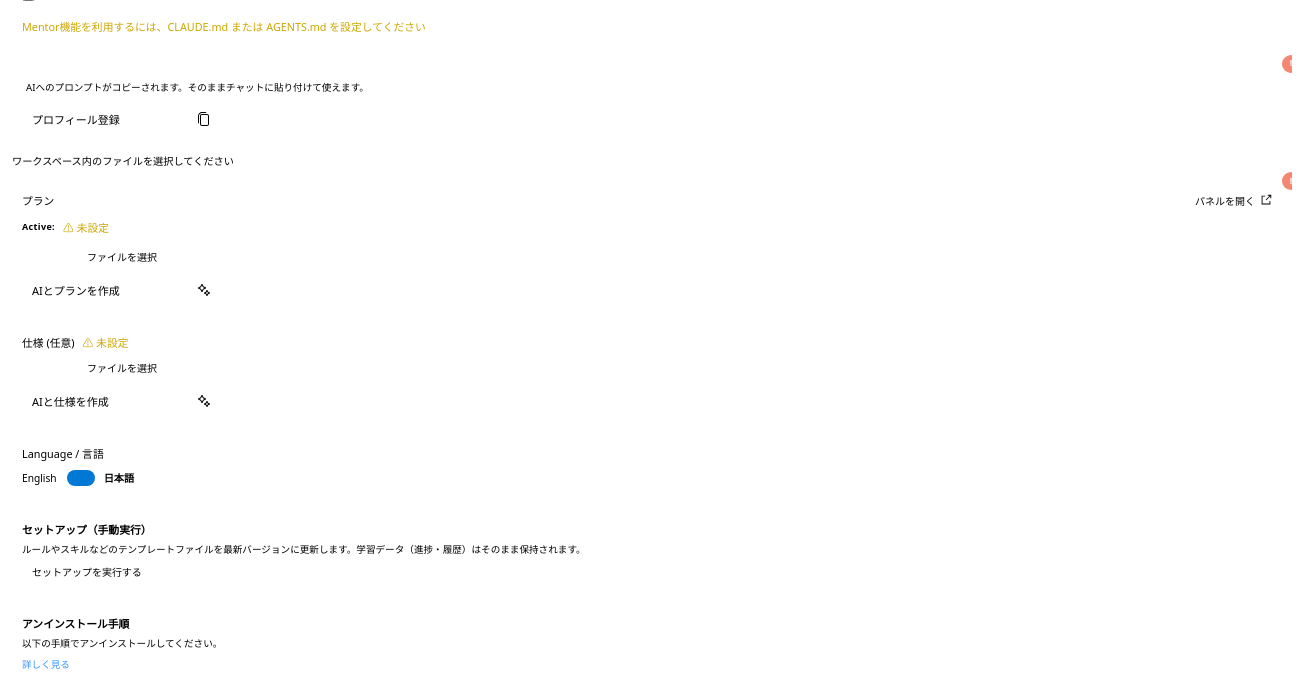
Scenario: Settings › disables cleanup button when nothing is selected
(page scrolled)
Click the button "詳しく見る" at (46, 664), box [22,657,70,671]
(page scrolled)
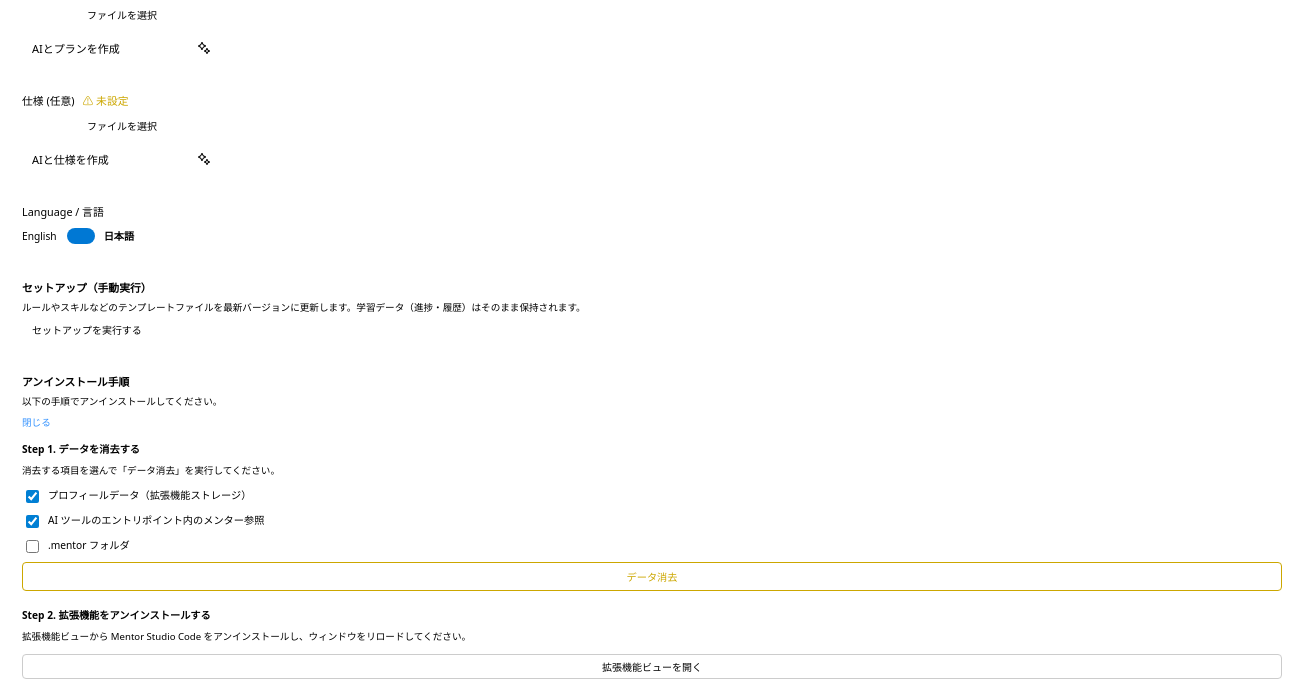
Note: Uncheck the two defaults (profile, entrypointFiles)
Click the checkbox labelled "プロフィールデータ（拡張機能ストレージ）" at (32, 497), box [26,490,39,503]
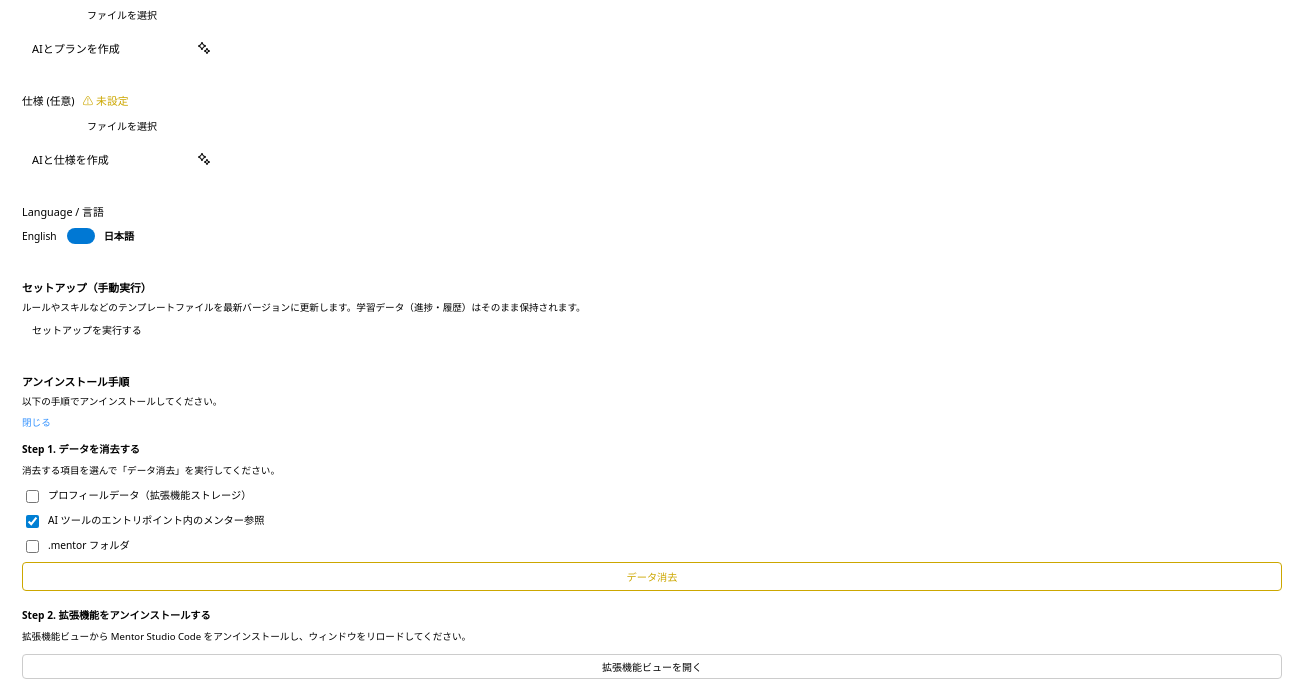
Click the checkbox labelled "AI ツールのエントリポイント内のメンター参照" at (32, 522), box [26,515,39,528]
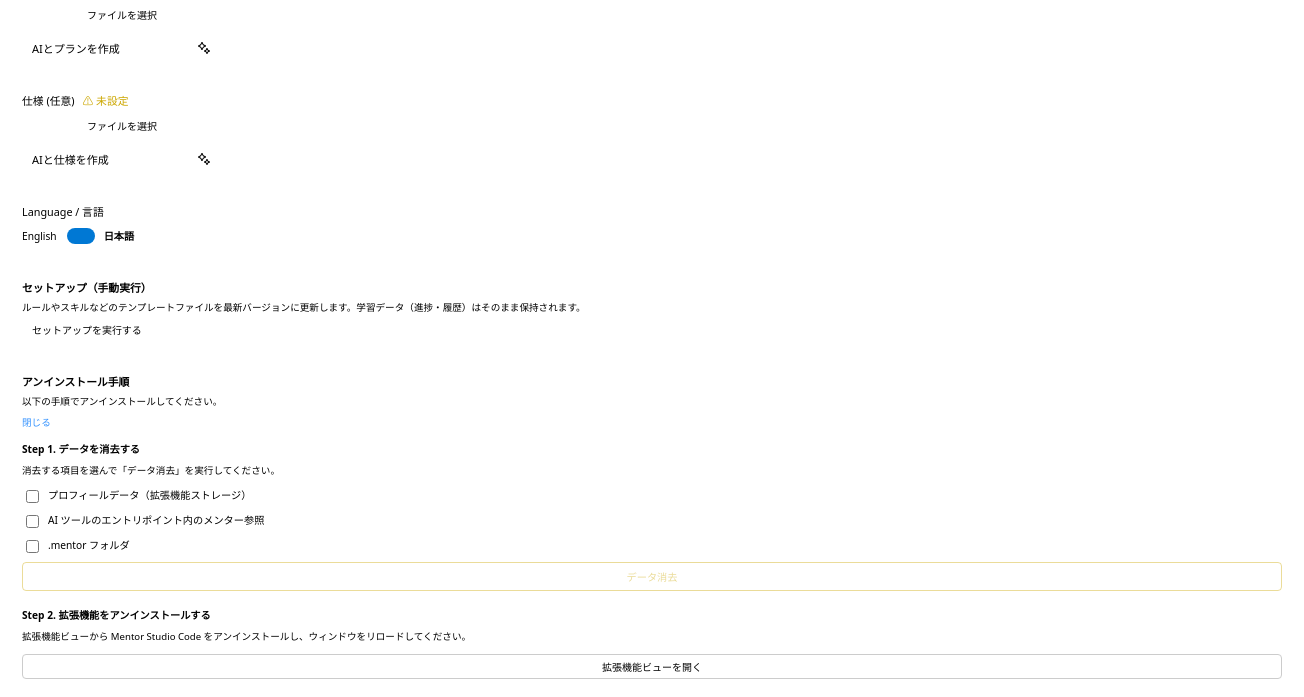
Now the button "データ消去" is disabled, box [22,562,1282,591]
